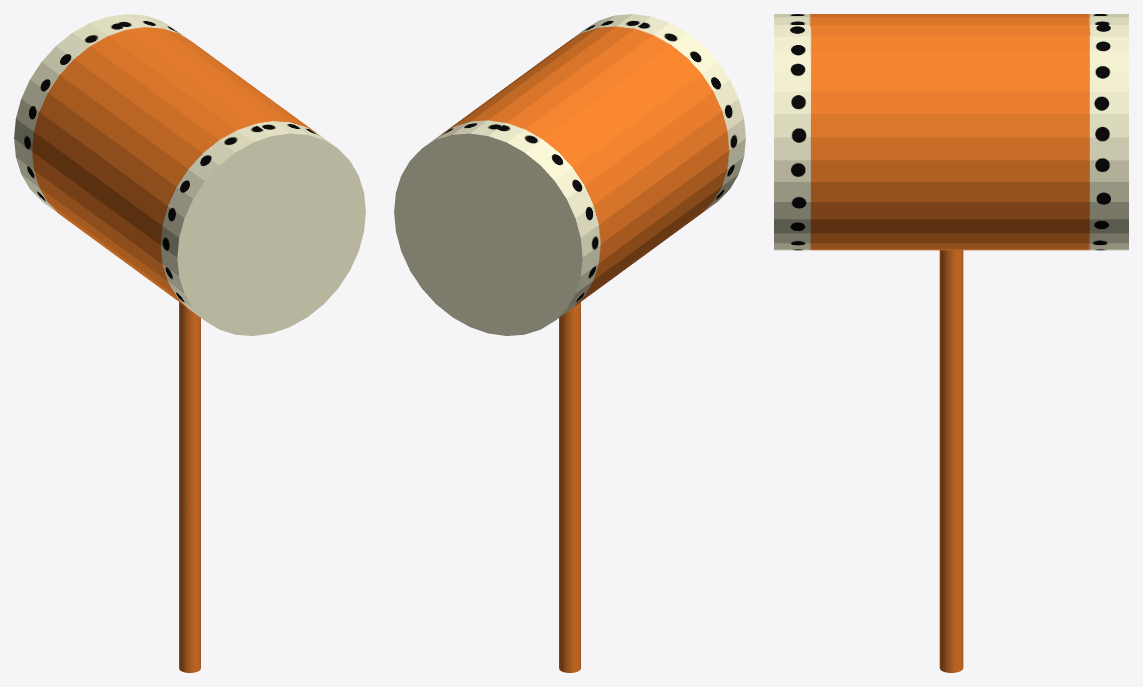
File: hammer.obj
The picture shows the model from 3 angles, left to right: view 1: azimuth 30°, elevation 25°; view 2: azimuth 150°, elevation 25°; view 3: azimuth 270°, elevation 25°; orthographic projection. The views are drawn at different scales.
Visible parts, largest first — view 1: 円柱.001; view 2: 円柱.001; view 3: 円柱.001.
Boxes of the visible parts, x1,y1,x2,y2 form: 円柱.001: [14, 14, 365, 672]; 円柱.001: [394, 14, 745, 672]; 円柱.001: [774, 14, 1128, 672].
Size of the model in its own units: 1.1 by 3.3 by 1.65.
1 material, 1 textured.
